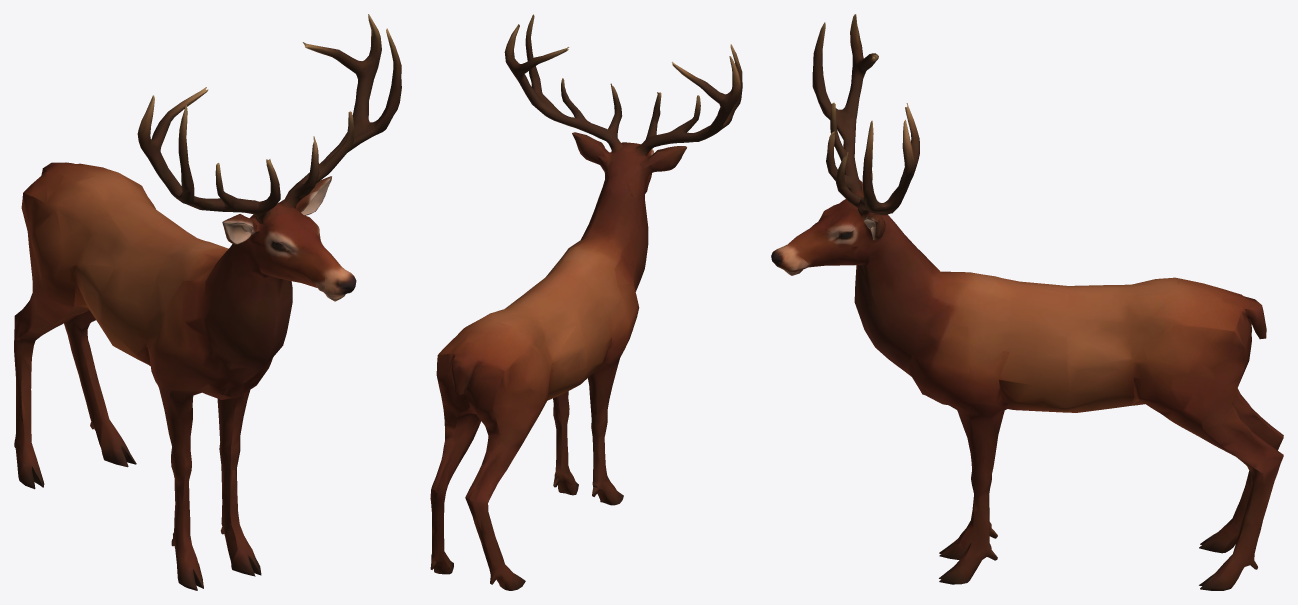
File: deer_red_idle.glb
3 renders of one model, left to right at view 1: azimuth 30°, elevation 25°; view 2: azimuth 150°, elevation 25°; view 3: azimuth 270°, elevation 25°, orthographic. The views are drawn at different scales.
Parts seen in each view (by area): view 1: tripo_node_a798d35c-34bb-4e6a-9019-25fb6319c45b; view 2: tripo_node_a798d35c-34bb-4e6a-9019-25fb6319c45b; view 3: tripo_node_a798d35c-34bb-4e6a-9019-25fb6319c45b.
Part boxes in pixels (x1,y1,x2,y2): tripo_node_a798d35c-34bb-4e6a-9019-25fb6319c45b: (14,14,401,590); tripo_node_a798d35c-34bb-4e6a-9019-25fb6319c45b: (430,14,742,590); tripo_node_a798d35c-34bb-4e6a-9019-25fb6319c45b: (771,14,1283,590).
Bounding box in the file's own units: 1.03 × 2 × 1.85.
Materials: 1 (1 with a texture image).
